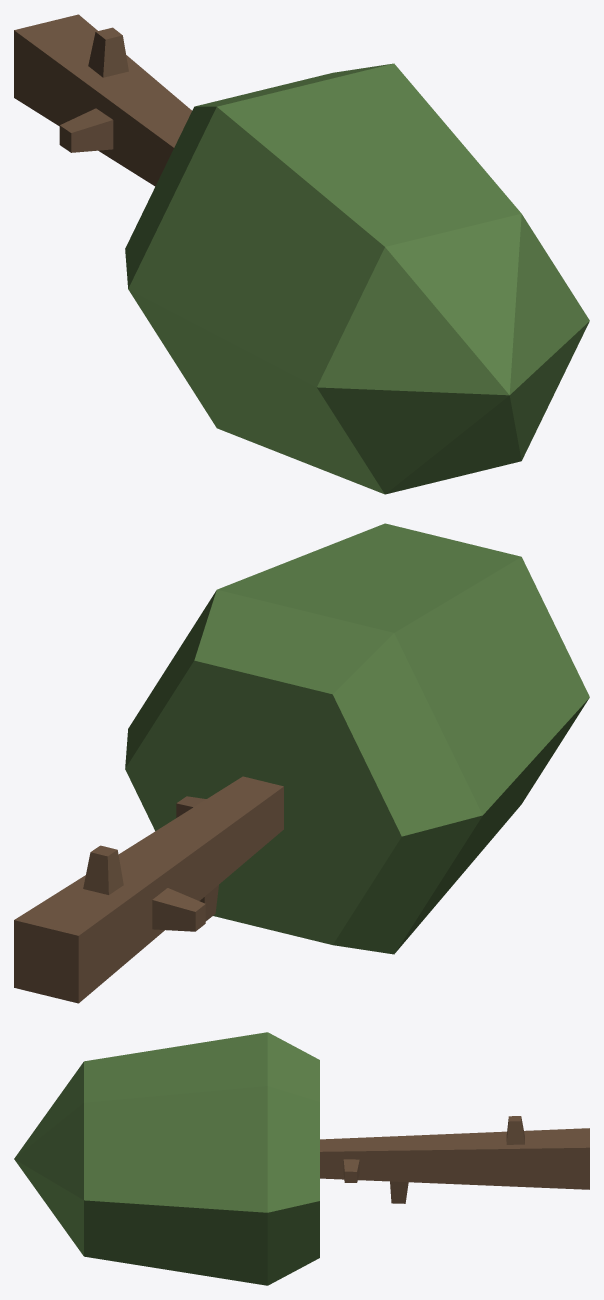
The model's file is tree-model-round-24-ft.obj.
3 renders of one model, top to bottom at view 1: azimuth 30°, elevation 25°; view 2: azimuth 150°, elevation 25°; view 3: azimuth 270°, elevation 25°, orthographic. The views are drawn at different scales.
Parts seen in each view (by area): view 1: tree-model-round-24-ft; view 2: tree-model-round-24-ft; view 3: tree-model-round-24-ft.
Part boxes in pixels (box(x1,y1,x2,y2)): tree-model-round-24-ft: box(14, 14, 589, 494); tree-model-round-24-ft: box(14, 523, 589, 1003); tree-model-round-24-ft: box(14, 1032, 589, 1285).
Size of the model in its own units: 127 by 110 by 288.
